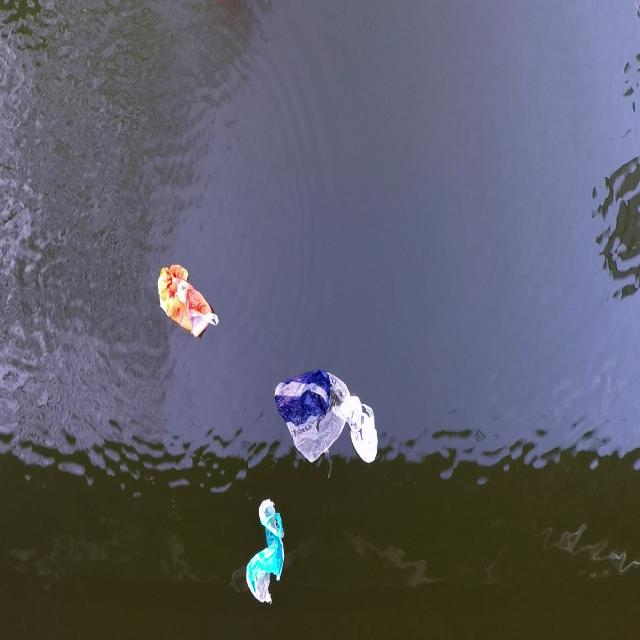Sac plastique: (270, 360, 352, 471), (155, 260, 222, 352), (244, 493, 290, 613), (343, 388, 382, 476)
